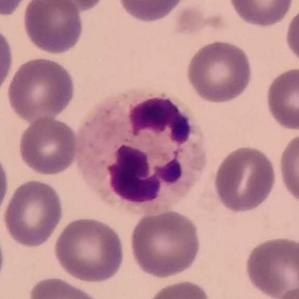Neutrophil: (68, 85, 213, 216)
RBC: (127, 208, 204, 280), (52, 214, 127, 284), (5, 55, 77, 123), (183, 38, 255, 105), (212, 143, 278, 215), (1, 177, 65, 249), (16, 115, 80, 177), (242, 234, 299, 299), (21, 0, 85, 56), (263, 66, 299, 132), (26, 274, 106, 299), (226, 0, 296, 28), (276, 129, 299, 208), (114, 0, 187, 24), (144, 278, 215, 299), (0, 24, 15, 98), (283, 4, 299, 68), (36, 0, 109, 14), (0, 149, 10, 223), (0, 0, 34, 18), (269, 283, 299, 299)
